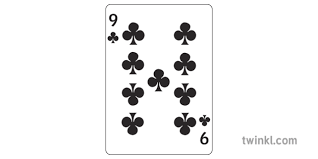nine of clubs: (104, 5, 213, 155)
